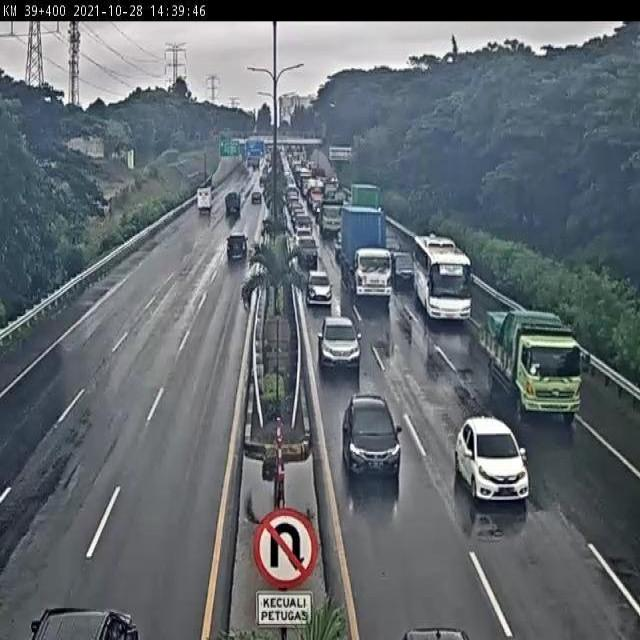big bus: (410, 220, 474, 328)
big truck: (336, 200, 396, 304), (348, 177, 385, 220)
car: (454, 409, 531, 507), (335, 388, 406, 479), (26, 600, 141, 640), (314, 308, 366, 377), (396, 617, 470, 640), (303, 266, 335, 310), (387, 248, 418, 293), (223, 229, 251, 264), (295, 230, 321, 266), (292, 224, 314, 248), (223, 191, 241, 220), (293, 210, 315, 230)
mid truck: (482, 304, 590, 435), (313, 196, 347, 239)
small truck: (192, 184, 212, 216)
